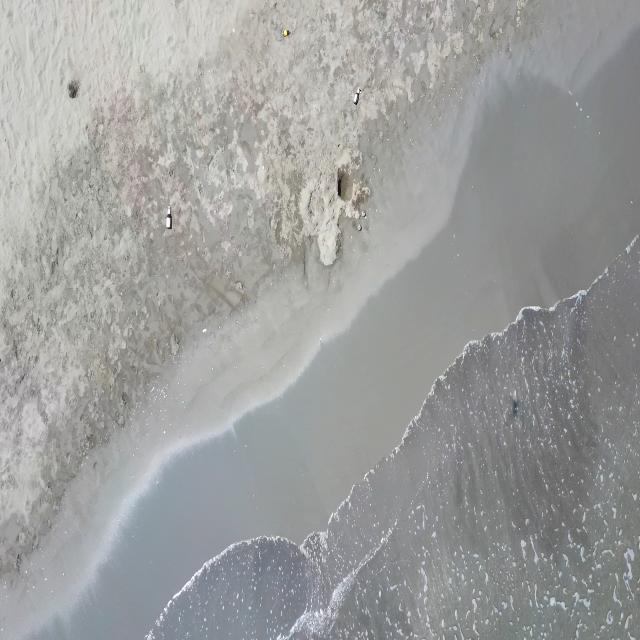glass: (353, 86, 361, 106), (166, 206, 171, 229), (283, 28, 291, 37)
